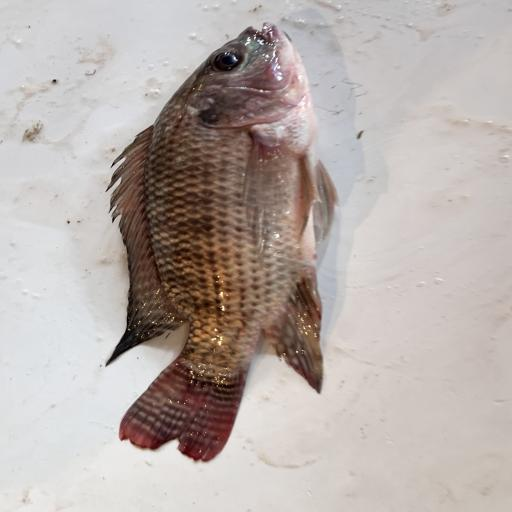Tilapia: (105, 23, 338, 463)
